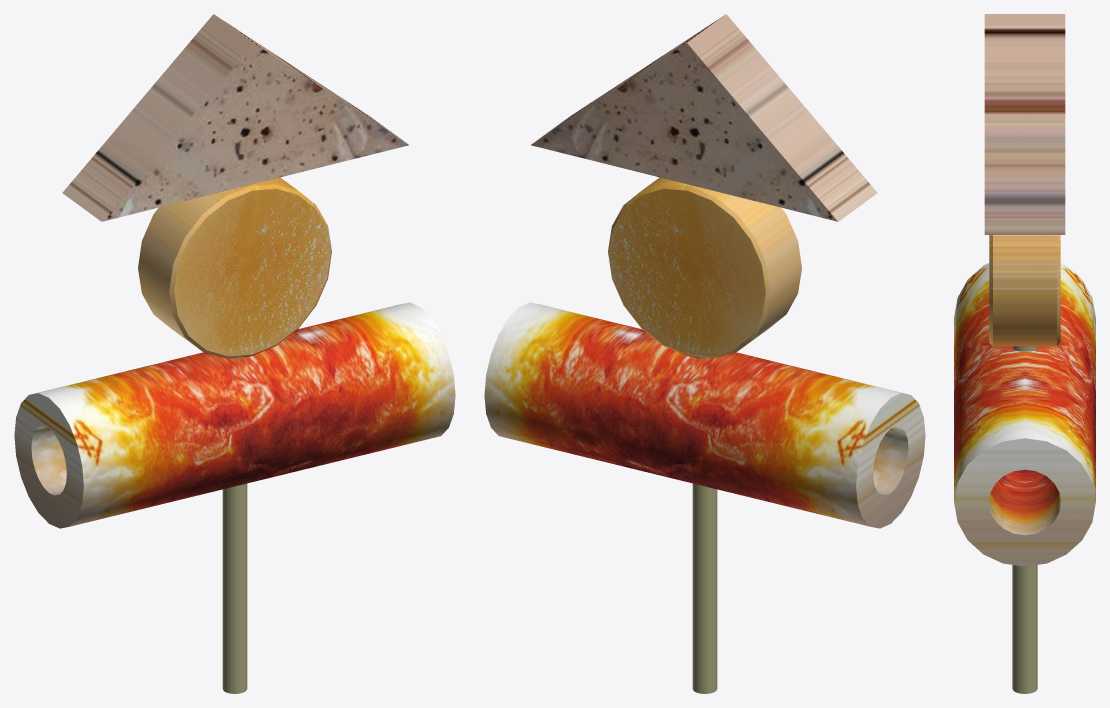
File: Oden.fbx
The picture shows the model from 3 angles, left to right: view 1: azimuth 30°, elevation 25°; view 2: azimuth 150°, elevation 25°; view 3: azimuth 270°, elevation 25°; orthographic projection.
Visible parts, largest first — view 1: pCylinder6; view 2: pCylinder6; view 3: pCylinder6.
Boxes of the visible parts, left/top/right/bottom form: pCylinder6: left=14, top=14, right=455, bottom=693; pCylinder6: left=484, top=14, right=925, bottom=693; pCylinder6: left=954, top=14, right=1095, bottom=693.
Size of the model in its own units: 4.57 by 7.76 by 1.48.
Materials: 2 (1 with a texture image).
